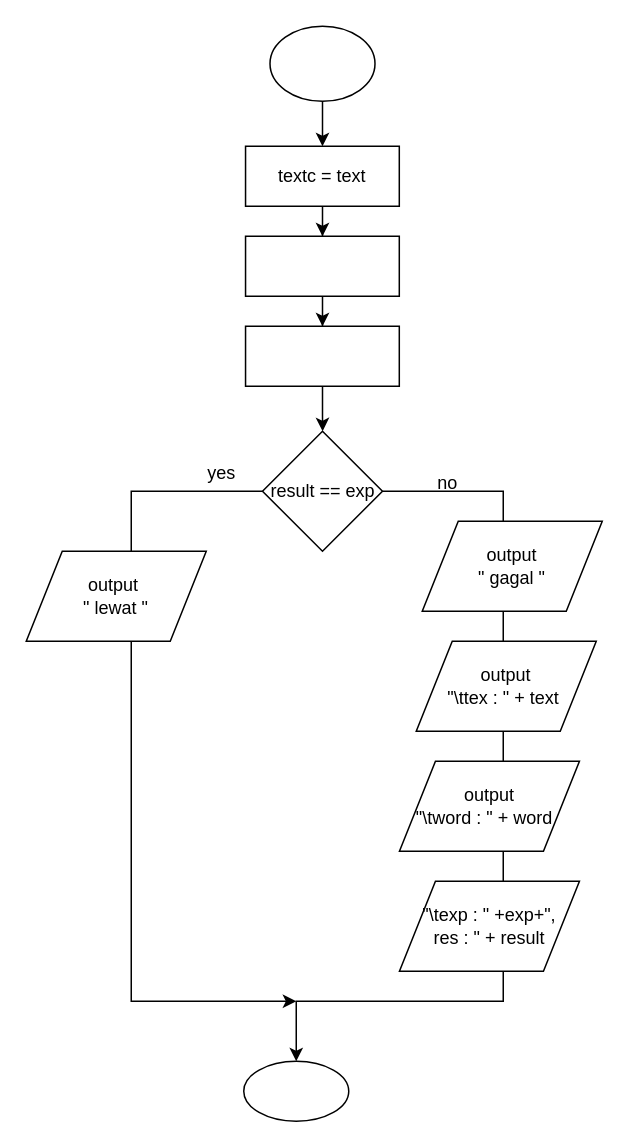
This 629x1148 diagram has some shape labels left out. Here are the shapes that lost their labels. From the top down, the centre of each, then its label:
[321,63]: start
[321,265]: wordc= word
[321,355]: result = 0
[295,1090]: finish
